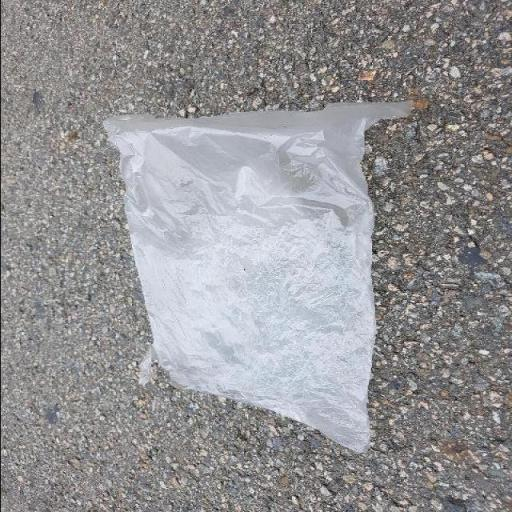plastic-bag: (98, 98, 415, 456)
